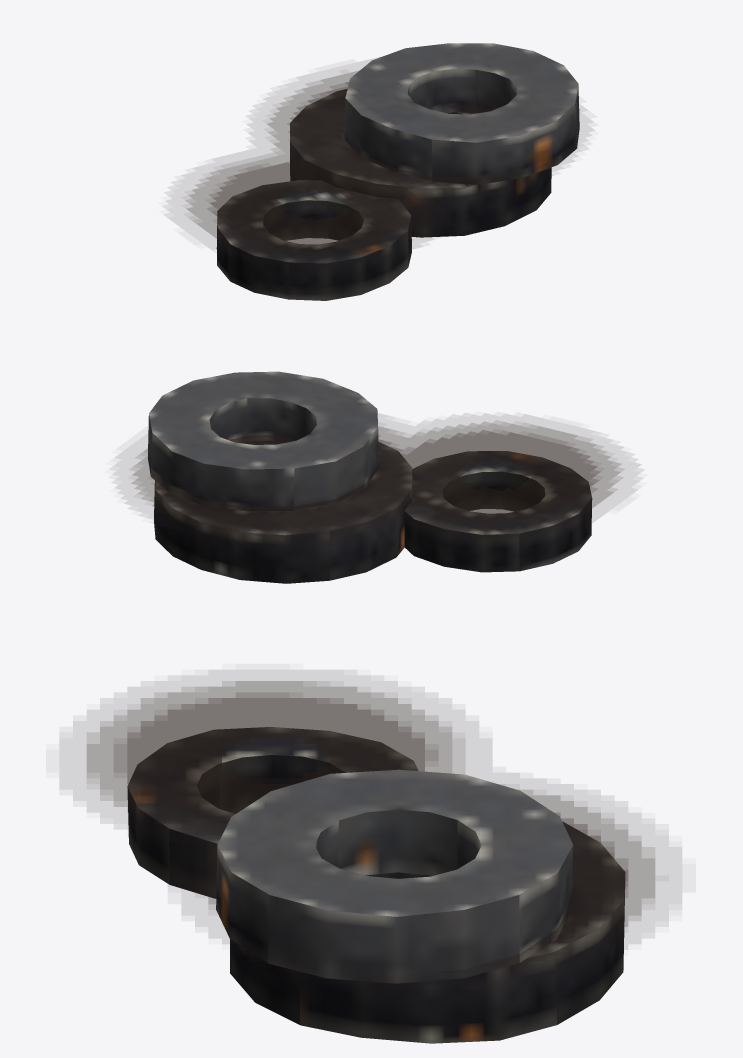
3 renders of one model, top to bottom at view 1: azimuth 30°, elevation 25°; view 2: azimuth 150°, elevation 25°; view 3: azimuth 270°, elevation 25°, orthographic. The views are drawn at different scales.
Visible parts, largest first — view 1: Tyre, GroundShade; view 2: Tyre, GroundShade; view 3: Tyre, GroundShade.
Part boxes in pixels (left/top/right/bottom): Tyre: left=216, top=43, right=579, bottom=300; GroundShade: left=166, top=59, right=594, bottom=265; Tyre: left=148, top=371, right=592, bottom=583; GroundShade: left=113, top=413, right=640, bottom=546; Tyre: left=127, top=727, right=625, bottom=1043; GroundShade: left=60, top=670, right=681, bottom=983.
Size of the model in its own units: 7.55 by 1.43 by 6.45.
2 materials, 2 textured.
